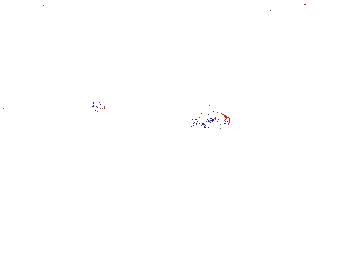X-ray fish: (1, 159, 58, 195)
red belly glassfish: (188, 111, 233, 131), (87, 96, 109, 118)
redtail glassfish: (42, 34, 88, 58)
